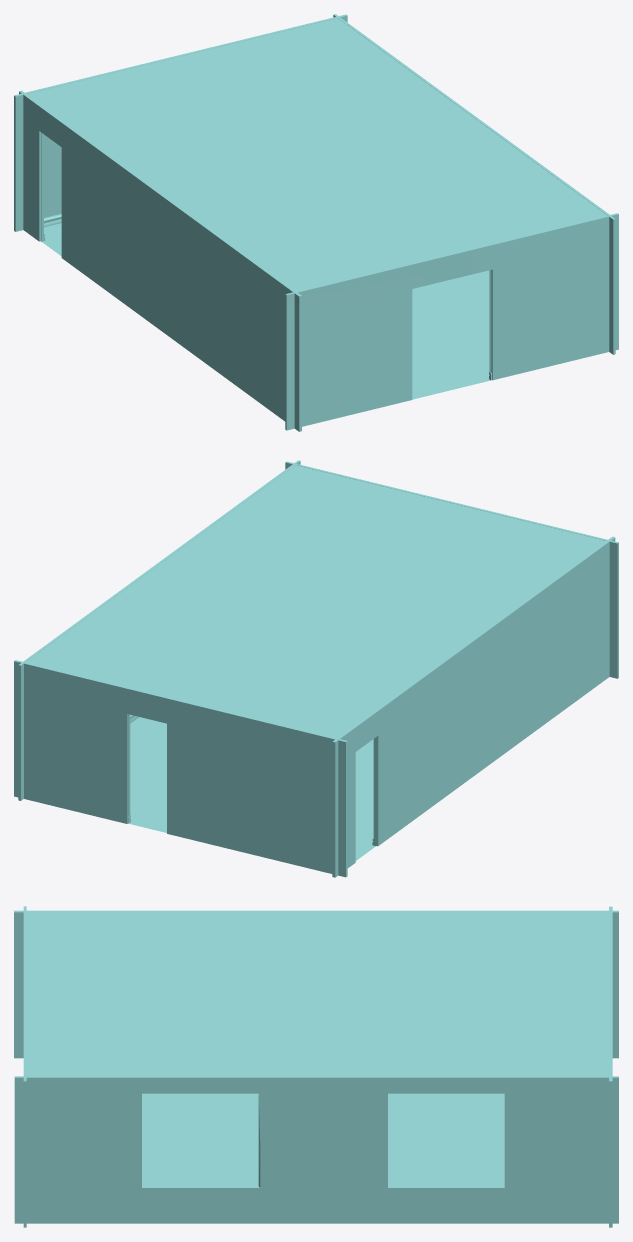
Rendered from FYP_asset_diningRoom_room.fbx.
The picture shows the model from 3 angles, top to bottom: view 1: azimuth 30°, elevation 25°; view 2: azimuth 150°, elevation 25°; view 3: azimuth 270°, elevation 25°; orthographic projection. The views are drawn at different scales.
Visible parts, largest first — view 1: ceiling1, wall04, wall01, floor, wall02, wall03, molding_floor; view 2: ceiling1, wall02, wall01, floor, wall04, wall03, molding_floor; view 3: ceiling1, wall03, floor, wall01, wall02, wall04.
Boxes of the visible parts, box(x1,y1,x2,y2) form: ceiling1: box(27, 18, 606, 291); wall04: box(285, 213, 618, 430); wall01: box(19, 90, 301, 431); floor: box(42, 223, 490, 399); wall02: box(14, 14, 347, 231); wall03: box(333, 14, 615, 354); molding_floor: box(41, 132, 491, 380); ceiling1: box(26, 465, 605, 738); wall02: box(14, 660, 347, 877); wall01: box(332, 536, 615, 877); floor: box(129, 717, 375, 860); wall04: box(285, 461, 618, 678); wall03: box(18, 460, 300, 800); molding_floor: box(128, 714, 376, 845); ceiling1: box(26, 912, 608, 1076); wall03: box(14, 1076, 618, 1223); floor: box(142, 1093, 504, 1185); wall01: box(14, 910, 618, 1058); wall02: box(609, 906, 612, 1227); wall04: box(23, 906, 26, 1227).
Size of the model in its own units: 255 by 99.54 by 372.
